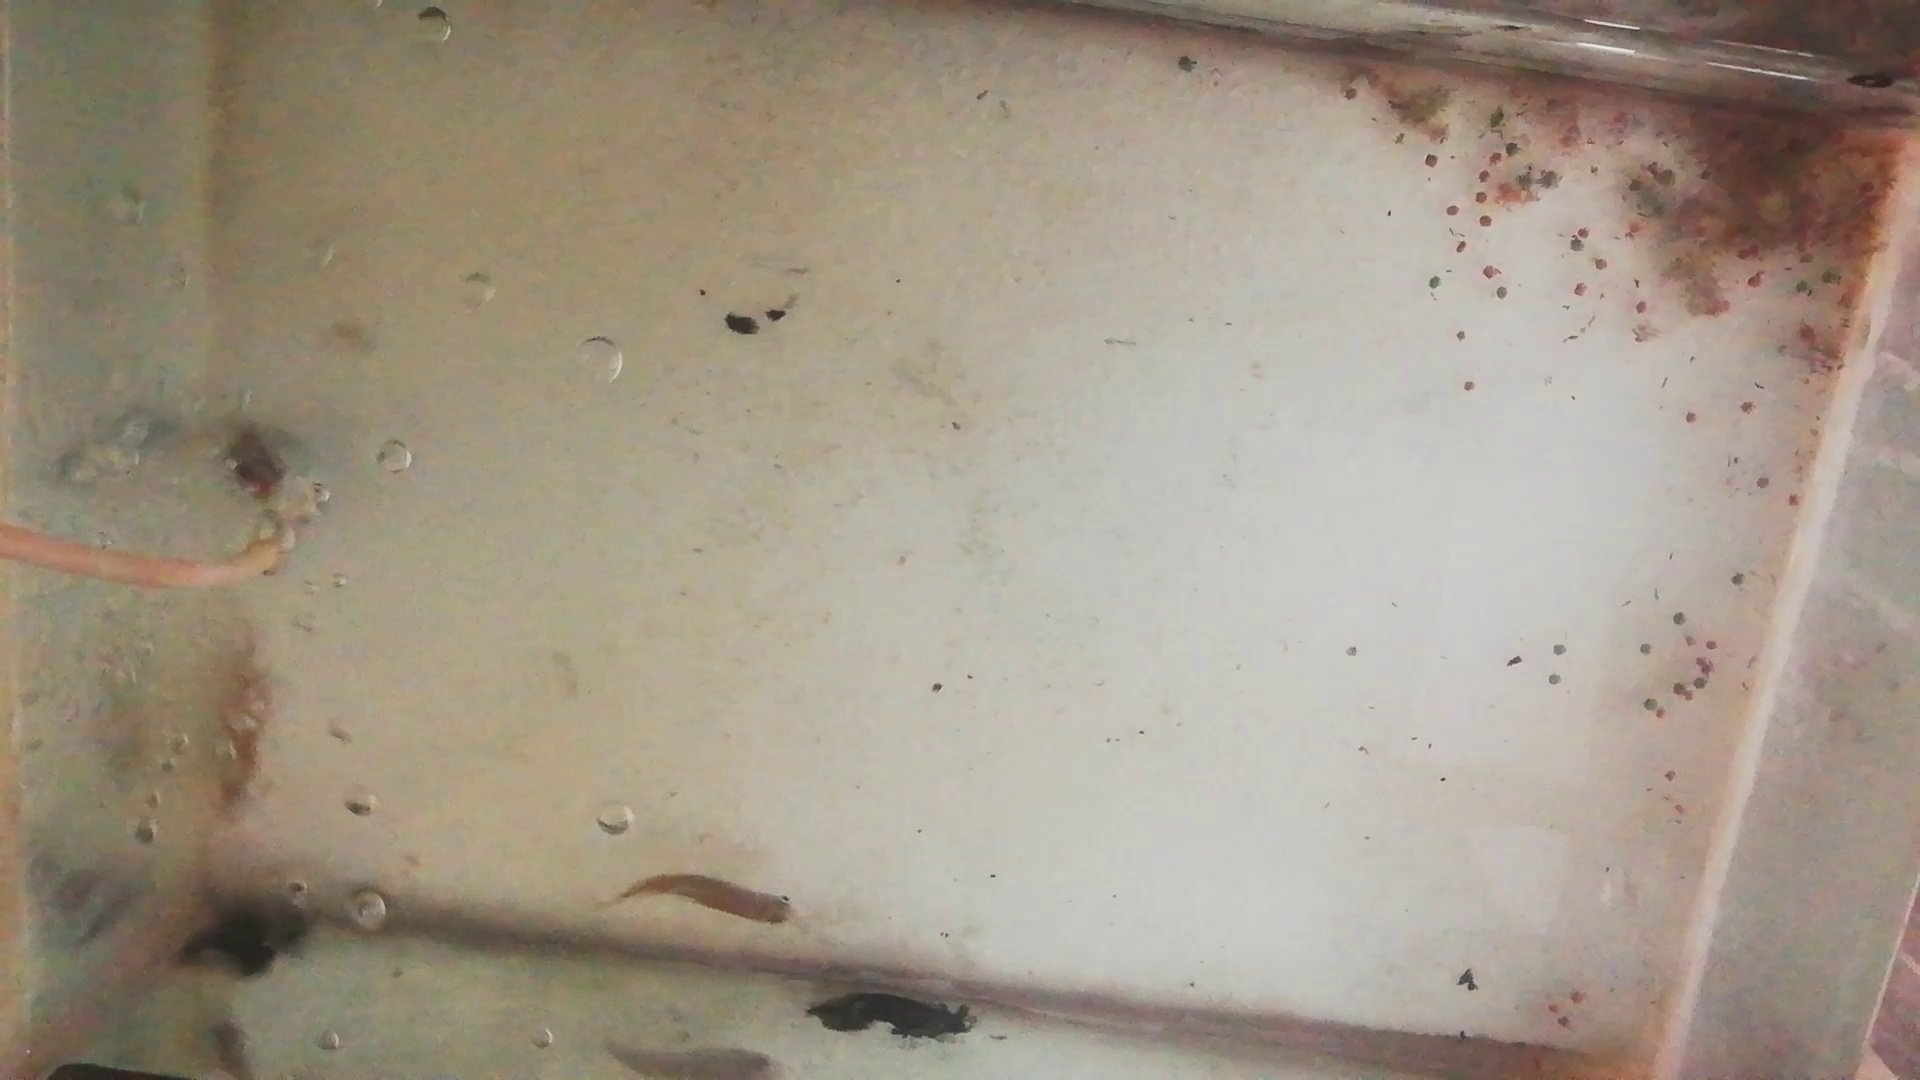fish: (214, 636, 276, 824), (622, 873, 802, 928)
